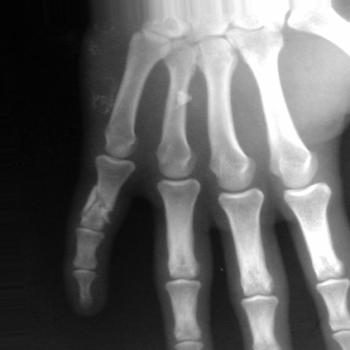Fracture: (69, 182, 122, 225)
